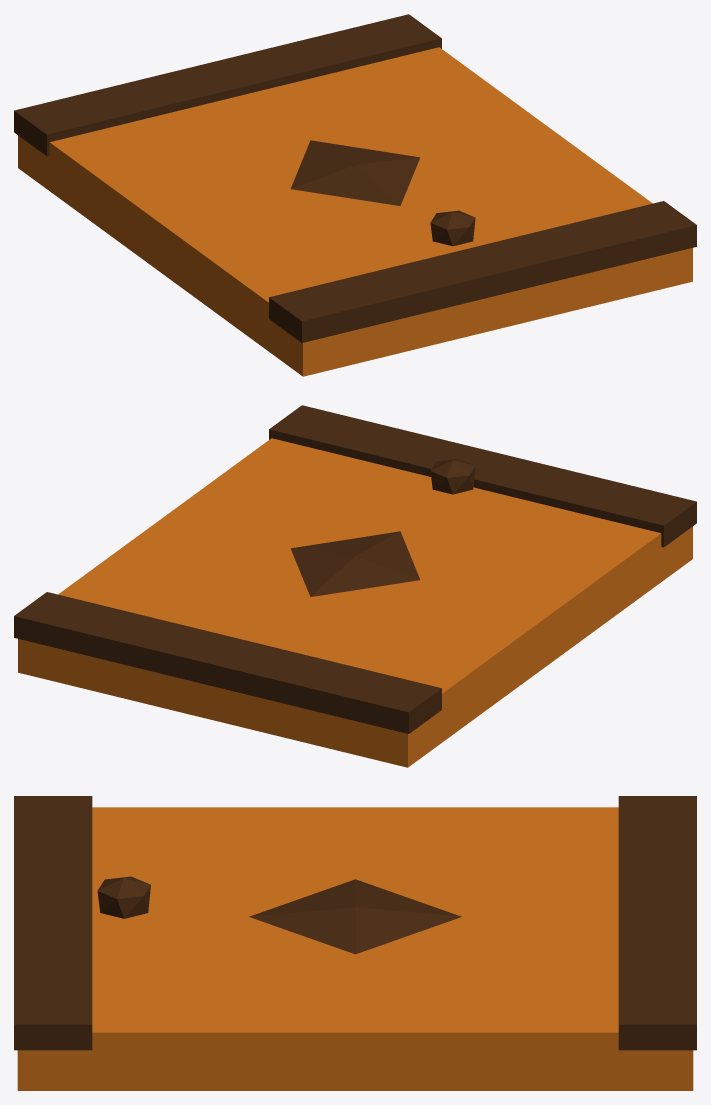
File: drop_cape_strength.glb
3 views of the same model, one above another, from view 1: azimuth 30°, elevation 25°; view 2: azimuth 150°, elevation 25°; view 3: azimuth 270°, elevation 25° (orthographic). The views are drawn at different scales.
Parts seen in each view (by area): view 1: drop_cape_strength; view 2: drop_cape_strength; view 3: drop_cape_strength.
Boxes of the visible parts, bbox=[...] form: drop_cape_strength: bbox=[14, 14, 696, 376]; drop_cape_strength: bbox=[14, 405, 696, 767]; drop_cape_strength: bbox=[14, 796, 696, 1090].
Size of the model in its own units: 0.304 by 0.062 by 0.384.
